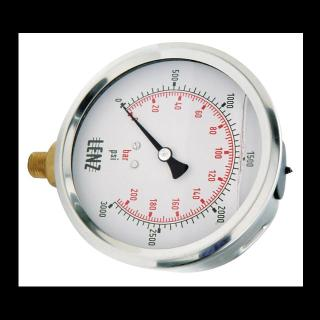gauge: (19, 32, 301, 286), (94, 190, 130, 222), (110, 93, 136, 121), (156, 146, 172, 162), (118, 102, 130, 114)
